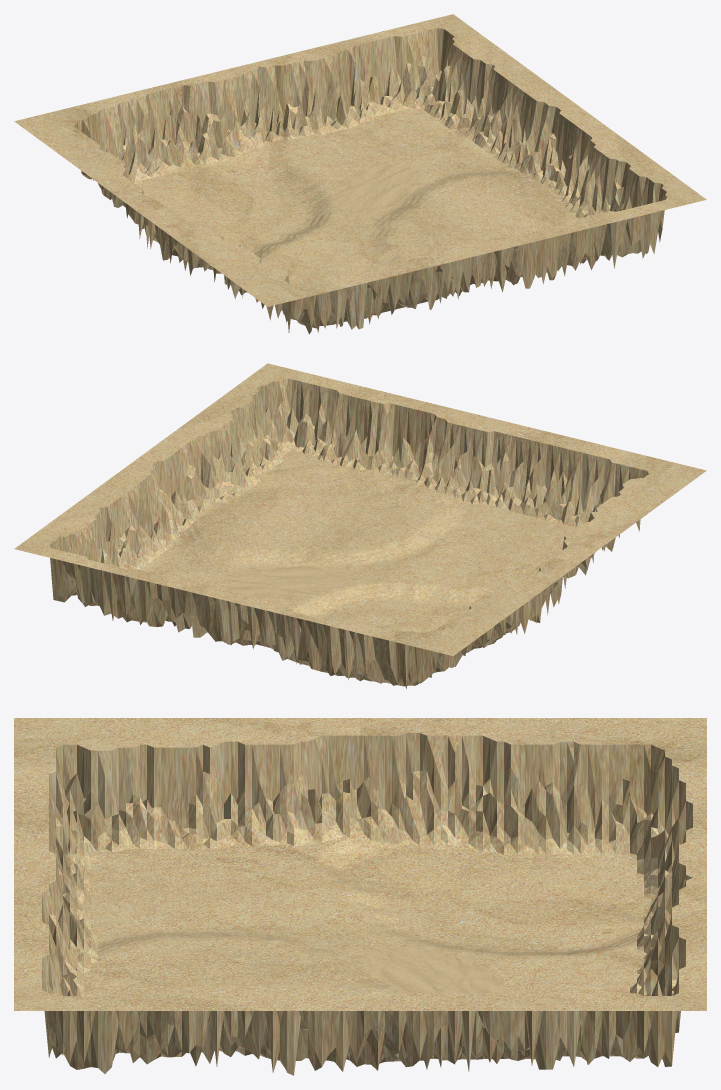
File: WorldMap.obj
3 views of the same model, one above another, from view 1: azimuth 30°, elevation 25°; view 2: azimuth 150°, elevation 25°; view 3: azimuth 270°, elevation 25° (orthographic). The views are drawn at different scales.
Parts seen in each view (by area): view 1: Grid; view 2: Grid; view 3: Grid.
Boxes of the visible parts, box(x1,y1,x2,y2) form: Grid: box(14, 14, 706, 334); Grid: box(14, 363, 706, 688); Grid: box(14, 718, 706, 1075).
Bounding box in the file's own units: 391 × 57.68 × 391.
